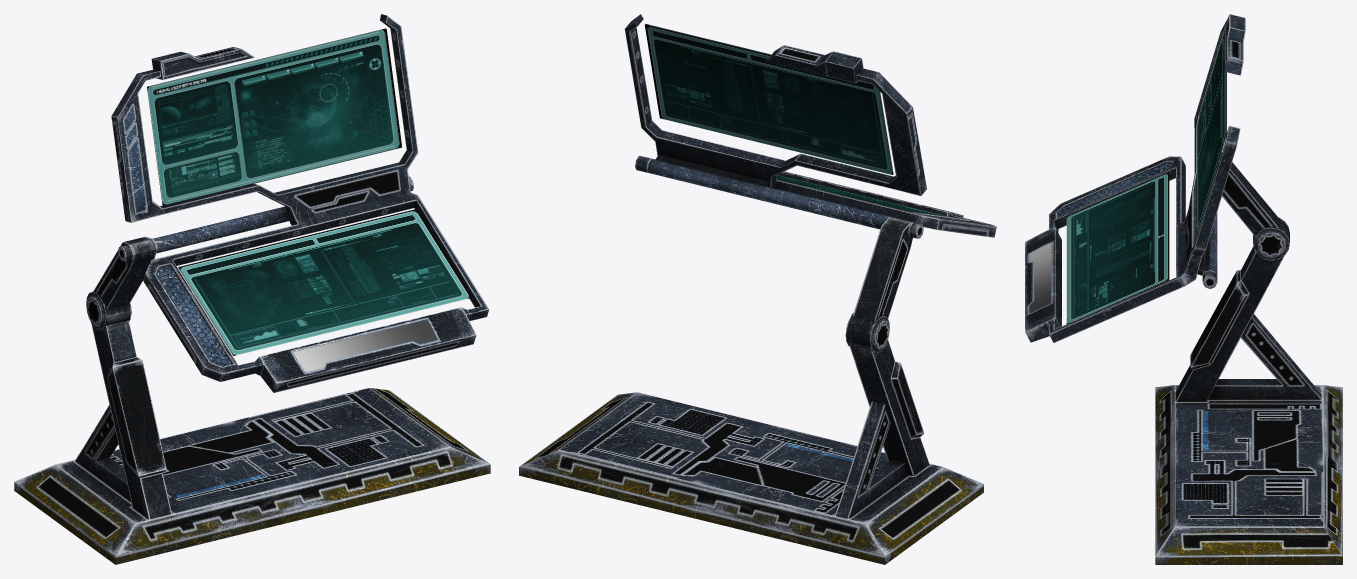
File: computer.gltf
The picture shows the model from 3 angles, left to right: view 1: azimuth 30°, elevation 25°; view 2: azimuth 150°, elevation 25°; view 3: azimuth 270°, elevation 25°; orthographic projection. The views are drawn at different scales.
Parts seen in each view (by area): view 1: Object_2, Object_3; view 2: Object_2, Object_3; view 3: Object_2, Object_3.
Part boxes in pixels (left/top/right/bottom): Object_2: left=14, top=14, right=490, bottom=564; Object_3: left=147, top=28, right=472, bottom=355; Object_2: left=519, top=14, right=996, bottom=564; Object_3: left=644, top=24, right=946, bottom=216; Object_2: left=1025, top=14, right=1342, bottom=564; Object_3: left=1066, top=31, right=1226, bottom=323.
Bounding box in the file's own units: 141 × 163 × 112.
2 materials, 2 textured.
